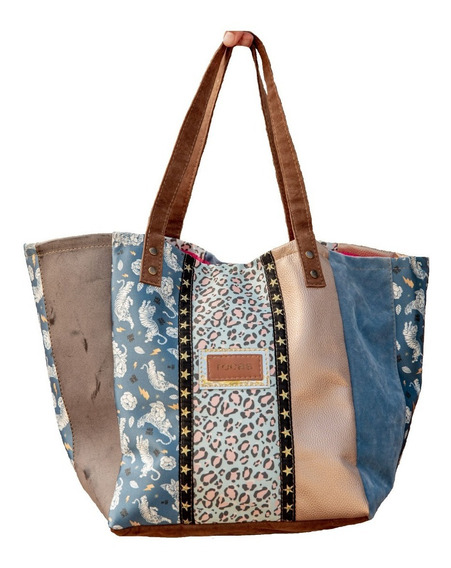cartera: (21, 28, 431, 541)
